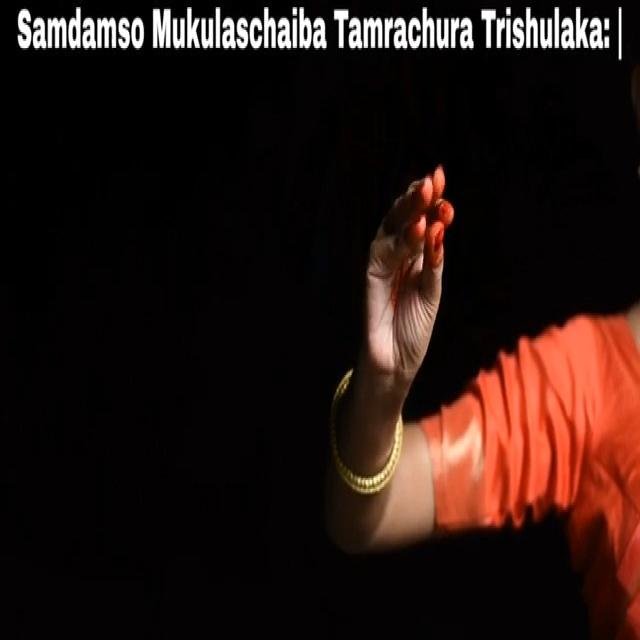Samdamsha: (353, 142, 481, 394)
bangle: (316, 386, 409, 511)
text: (11, 0, 628, 68)
